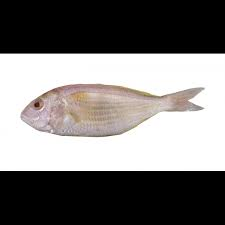Ikan Kerisi: (18, 83, 207, 138)
